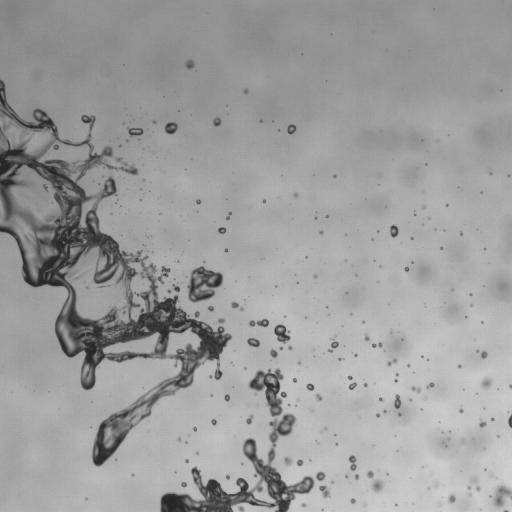droplet: (187, 266, 222, 302), (491, 483, 511, 507), (366, 470, 384, 492), (274, 324, 290, 343), (467, 476, 480, 491), (164, 122, 177, 134), (127, 127, 143, 136), (319, 485, 330, 498), (481, 376, 491, 389), (247, 338, 259, 347), (329, 340, 338, 352), (394, 394, 401, 408), (390, 225, 398, 237), (185, 59, 194, 69), (287, 124, 295, 134), (477, 350, 487, 358), (213, 117, 221, 126), (284, 456, 292, 465), (411, 386, 421, 393), (246, 414, 253, 424), (447, 494, 455, 502), (270, 349, 277, 357), (306, 383, 313, 391), (348, 382, 356, 389), (479, 420, 486, 427), (315, 393, 321, 401), (218, 227, 225, 233), (427, 382, 434, 388), (297, 459, 303, 466), (364, 334, 369, 341), (224, 394, 229, 401), (208, 306, 213, 311), (211, 419, 216, 424), (181, 482, 186, 487), (350, 498, 355, 503), (243, 89, 248, 93), (293, 193, 298, 197), (196, 199, 200, 204), (404, 267, 409, 271), (459, 408, 463, 413), (434, 482, 438, 487), (319, 230, 323, 234), (313, 274, 317, 278), (288, 346, 292, 350), (379, 397, 383, 401), (354, 474, 358, 478), (301, 503, 305, 507), (348, 376, 352, 379), (293, 378, 296, 382), (364, 382, 367, 386), (407, 364, 410, 367), (383, 410, 386, 413), (376, 413, 379, 416), (193, 427, 196, 430), (226, 475, 229, 478), (224, 249, 228, 251), (279, 347, 283, 349), (338, 358, 342, 360), (509, 384, 511, 388), (153, 120, 155, 123), (23, 193, 26, 195), (422, 206, 425, 208), (460, 232, 462, 235), (458, 364, 460, 367), (395, 373, 398, 375), (394, 379, 397, 381), (491, 418, 494, 420), (178, 438, 181, 440), (185, 460, 188, 462), (263, 200, 265, 202), (440, 247, 442, 249), (82, 261, 84, 263), (354, 354, 356, 356), (298, 362, 300, 364), (424, 397, 426, 399), (409, 398, 411, 400), (462, 439, 464, 441)
ligament: (0, 79, 231, 466), (160, 368, 325, 511), (249, 318, 269, 327), (348, 455, 356, 471), (231, 302, 243, 310), (387, 358, 397, 366), (371, 342, 382, 347), (508, 413, 511, 427), (226, 212, 231, 219), (504, 510, 508, 511)
